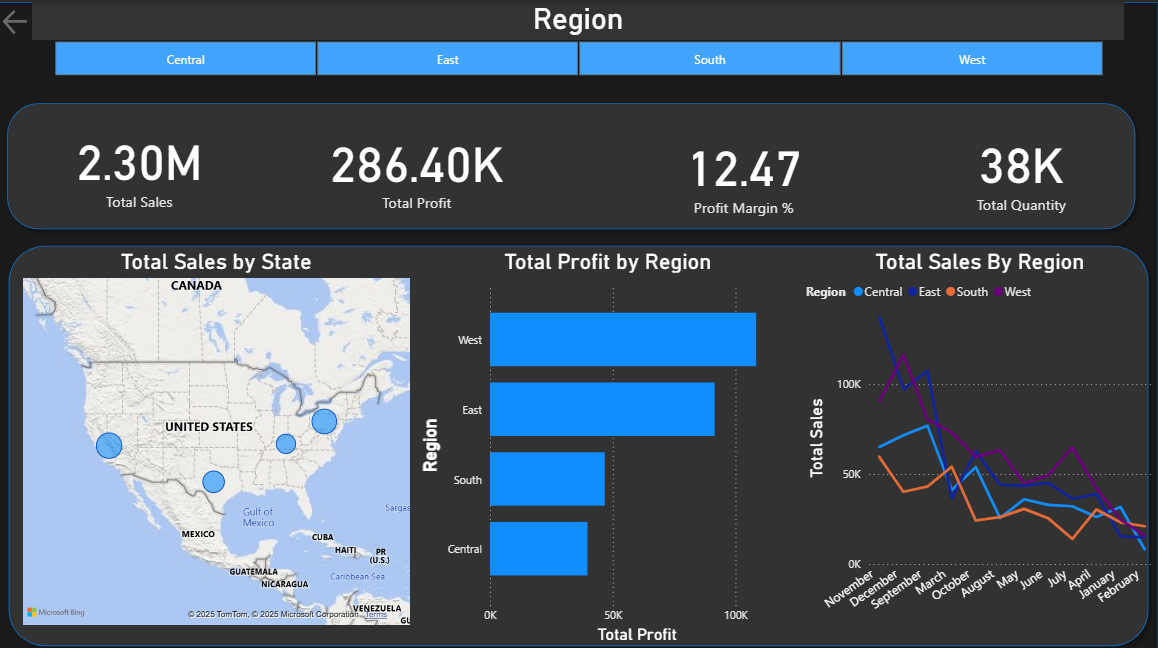

This screenshot's page, from the dashboard's own definition file:
{"tool":"powerbi","page":{"name":"Page 3","canvas":[1280,720],"ordinal":2},"visuals":[{"type":"shape","box":[0,0,1280.5,720.6],"z":0},{"type":"card","fields":{"Values":["Raw_cleaned.Total Sales"]},"box":[1.4,96.1,306,170],"z":0,"group":"g1"},{"type":"shape","box":[1.9,260,1276.8,460.3],"z":500},{"type":"slicer","title":"Region","fields":{"Values":["region_dim.Region"]},"box":[36.4,0,1205.9,87.8],"z":1000},{"type":"card","fields":{"Values":["Raw_cleaned.Total Profit"]},"box":[307.4,98.1,306,170],"z":1000,"group":"g1"},{"type":"card","fields":{"Values":["Raw_cleaned.Total Quantity"]},"box":[975.4,100.1,306,170],"z":2000,"group":"g1"},{"type":"shape","box":[0,102.7,1263.9,157.4],"z":2000},{"type":"group","id":"g1","title":"Group 1","box":[1.4,96.1,1280,176],"z":3000},{"type":"card","fields":{"Values":["Raw_cleaned.Profit Margin %"]},"box":[669.4,102.1,306,170],"z":3000,"group":"g1"},{"type":"clusteredBarChart","fields":{"Category":["region_dim.Region"],"Y":["Raw_cleaned.Total Profit"]},"box":[458.8,271.1,427.4,440.6],"z":4000},{"type":"map","fields":{"Category":["region_dim.State"],"Size":["Raw_cleaned.Total Sales"]},"box":[21.2,271.5,437.2,421.8],"z":5000},{"type":"lineChart","title":"Total Sales By Region","fields":{"Series":["region_dim.Region"],"Y":["Raw_cleaned.Total Sales"],"Category":["date_dim.Month Name"]},"box":[886.2,271.1,394.2,440.6],"z":6000},{"type":"actionButton","box":[0,0,36.4,44.7],"z":7000}]}

Visuals, with their boxes in screenshot pixels (x1, y1, x2, y2), scaled from the page's 1280x720 canvas onto the 1158x648 screenshot:
shape: 0,0,1157,647
card - Raw_cleaned.Total Sales: 1,86,278,239
shape: 2,234,1157,647
"Region" slicer: 33,0,1124,79
card - Raw_cleaned.Total Profit: 278,88,555,241
card - Raw_cleaned.Total Quantity: 882,90,1157,243
shape: 0,92,1143,234
"Group 1" group: 1,86,1157,245
card - Raw_cleaned.Profit Margin %: 606,92,882,245
clusteredBarChart - region_dim.Region x Raw_cleaned.Total Profit: 415,244,802,641
map - region_dim.State x Raw_cleaned.Total Sales: 19,244,415,624
"Total Sales By Region" lineChart: 802,244,1157,641
actionButton: 0,0,33,40
